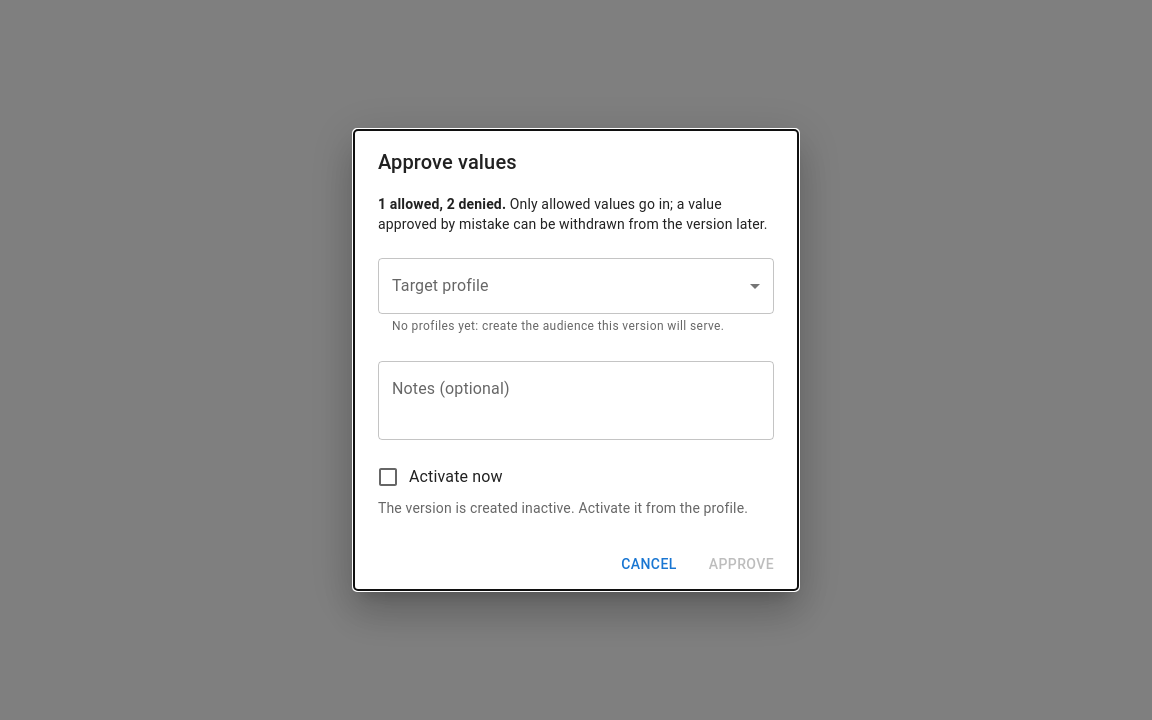
Test: ApproveCandidateDialog › creates a profile from the dialog when there is none
Expected: the text "No profiles yet" is shown, [392,319,724,333]
Expected: the button "Approve" is disabled, [693,546,790,582]
Press the mouse on the dropdown named "target profile" at (576, 286), box [378,258,774,314]
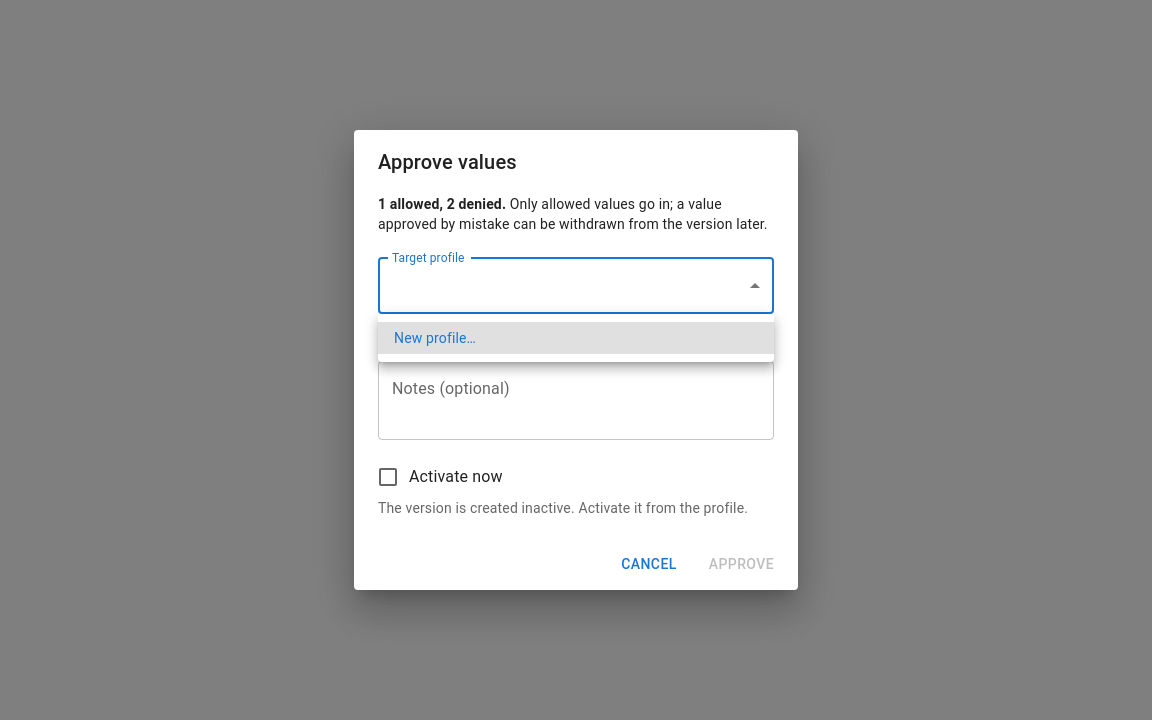
Click the option "New profile…".
click(435, 338)  # box [378,322,774,354]
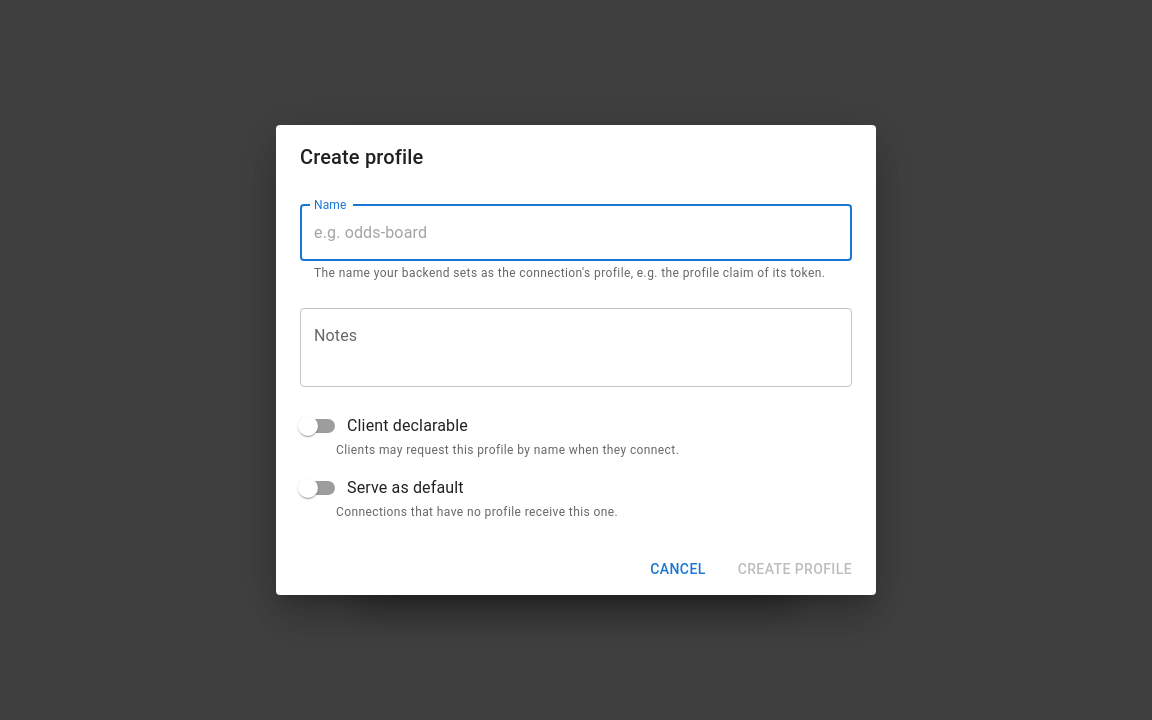
Type "trading" into the field labelled "Name".
click(576, 233); type("trading")  # box [300,205,852,261]
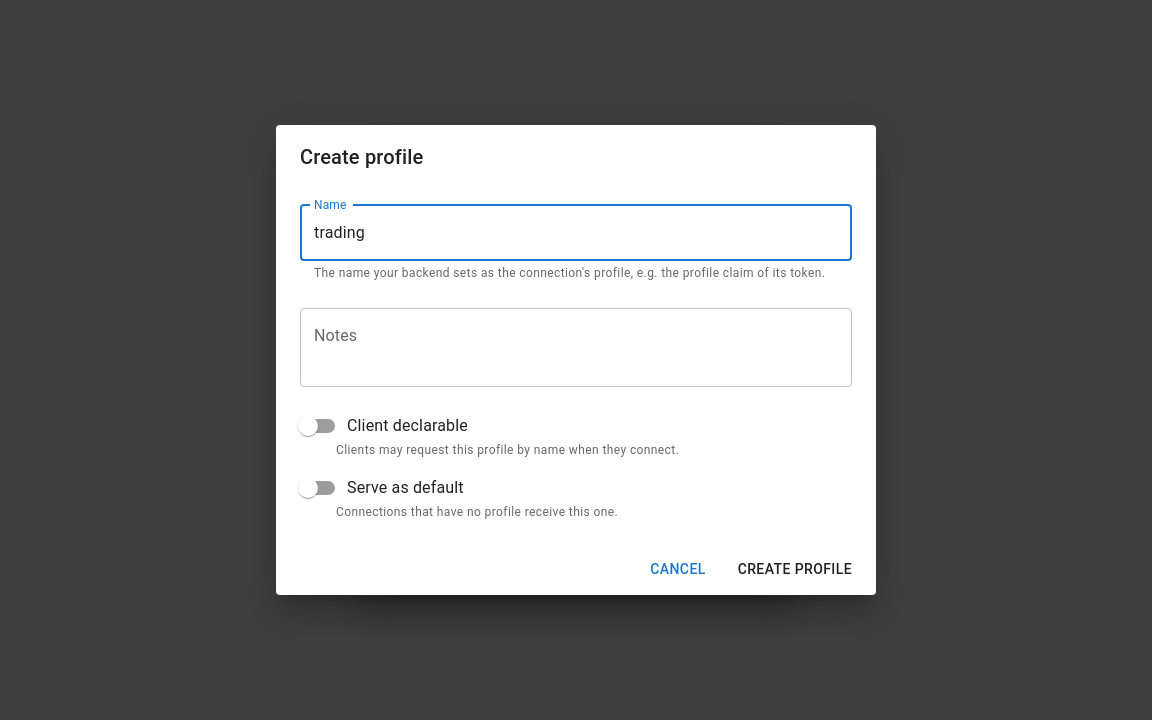
Click the button "Create profile".
click(795, 569)  # box [722,551,868,587]
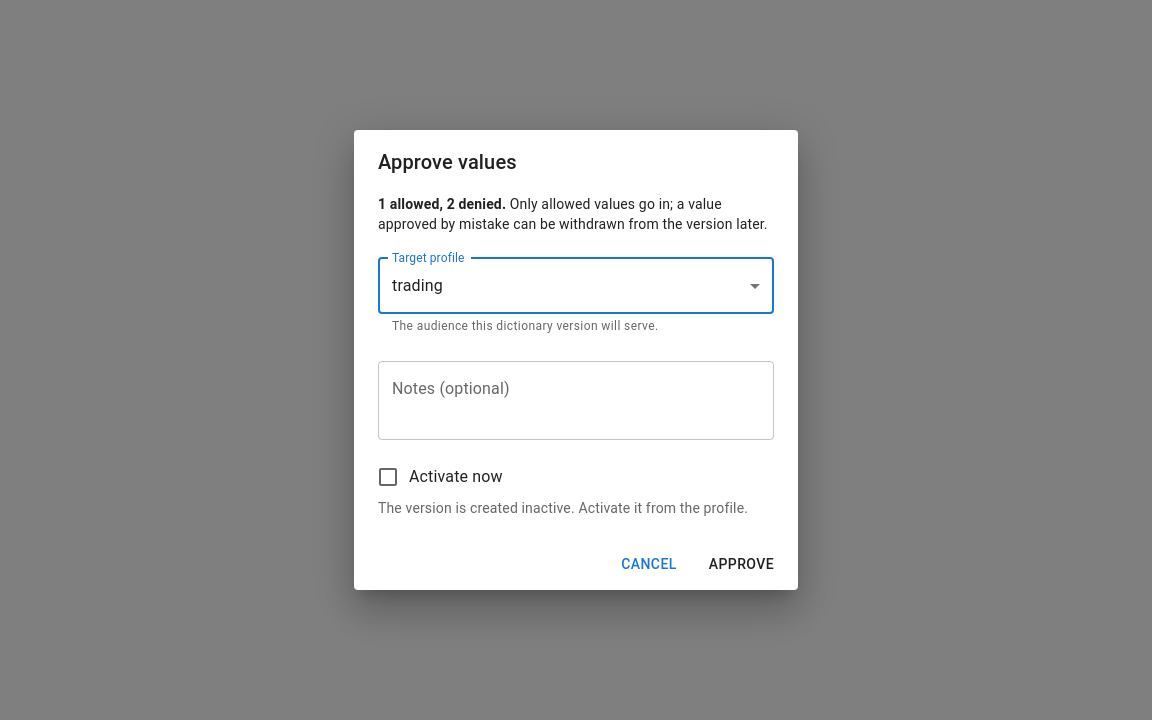
Expected: the dropdown named "target profile" reads "trading", [392,276,443,295]
Expected: the button "Approve" is enabled, [693,546,790,582]
